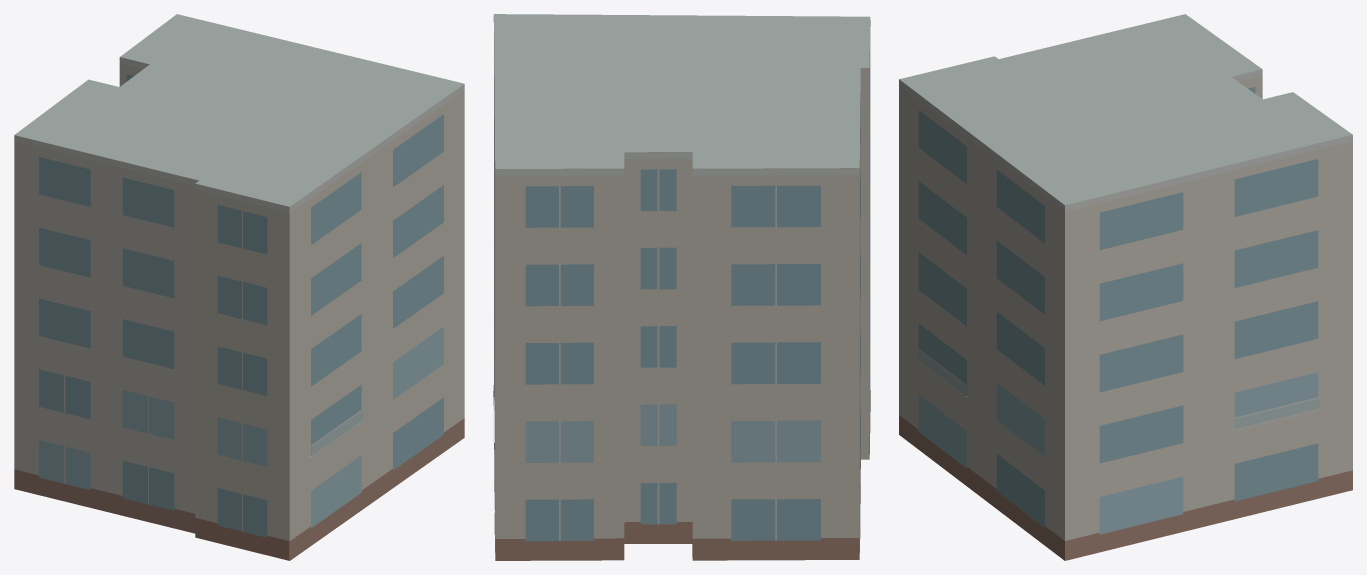
The model's file is survey-upis-32666443.glb.
3 renders of one model, left to right at view 1: azimuth 30°, elevation 25°; view 2: azimuth 150°, elevation 25°; view 3: azimuth 270°, elevation 25°, orthographic. The views are drawn at different scales.
Parts seen in each view (by area): view 1: survey-upis-32666443.tmp; view 2: survey-upis-32666443.tmp; view 3: survey-upis-32666443.tmp.
Boxes of the visible parts, left/top/right/bottom form: survey-upis-32666443.tmp: left=14, top=14, right=464, bottom=560; survey-upis-32666443.tmp: left=493, top=14, right=870, bottom=560; survey-upis-32666443.tmp: left=899, top=14, right=1352, bottom=560.
Bounding box in the file's own units: 15.59 × 13.5 × 15.62.
